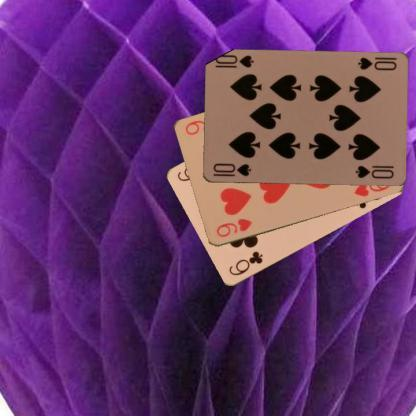10s: (354, 54, 398, 73), (210, 160, 252, 178)
6c: (226, 248, 265, 278)
9h: (213, 216, 254, 239)
